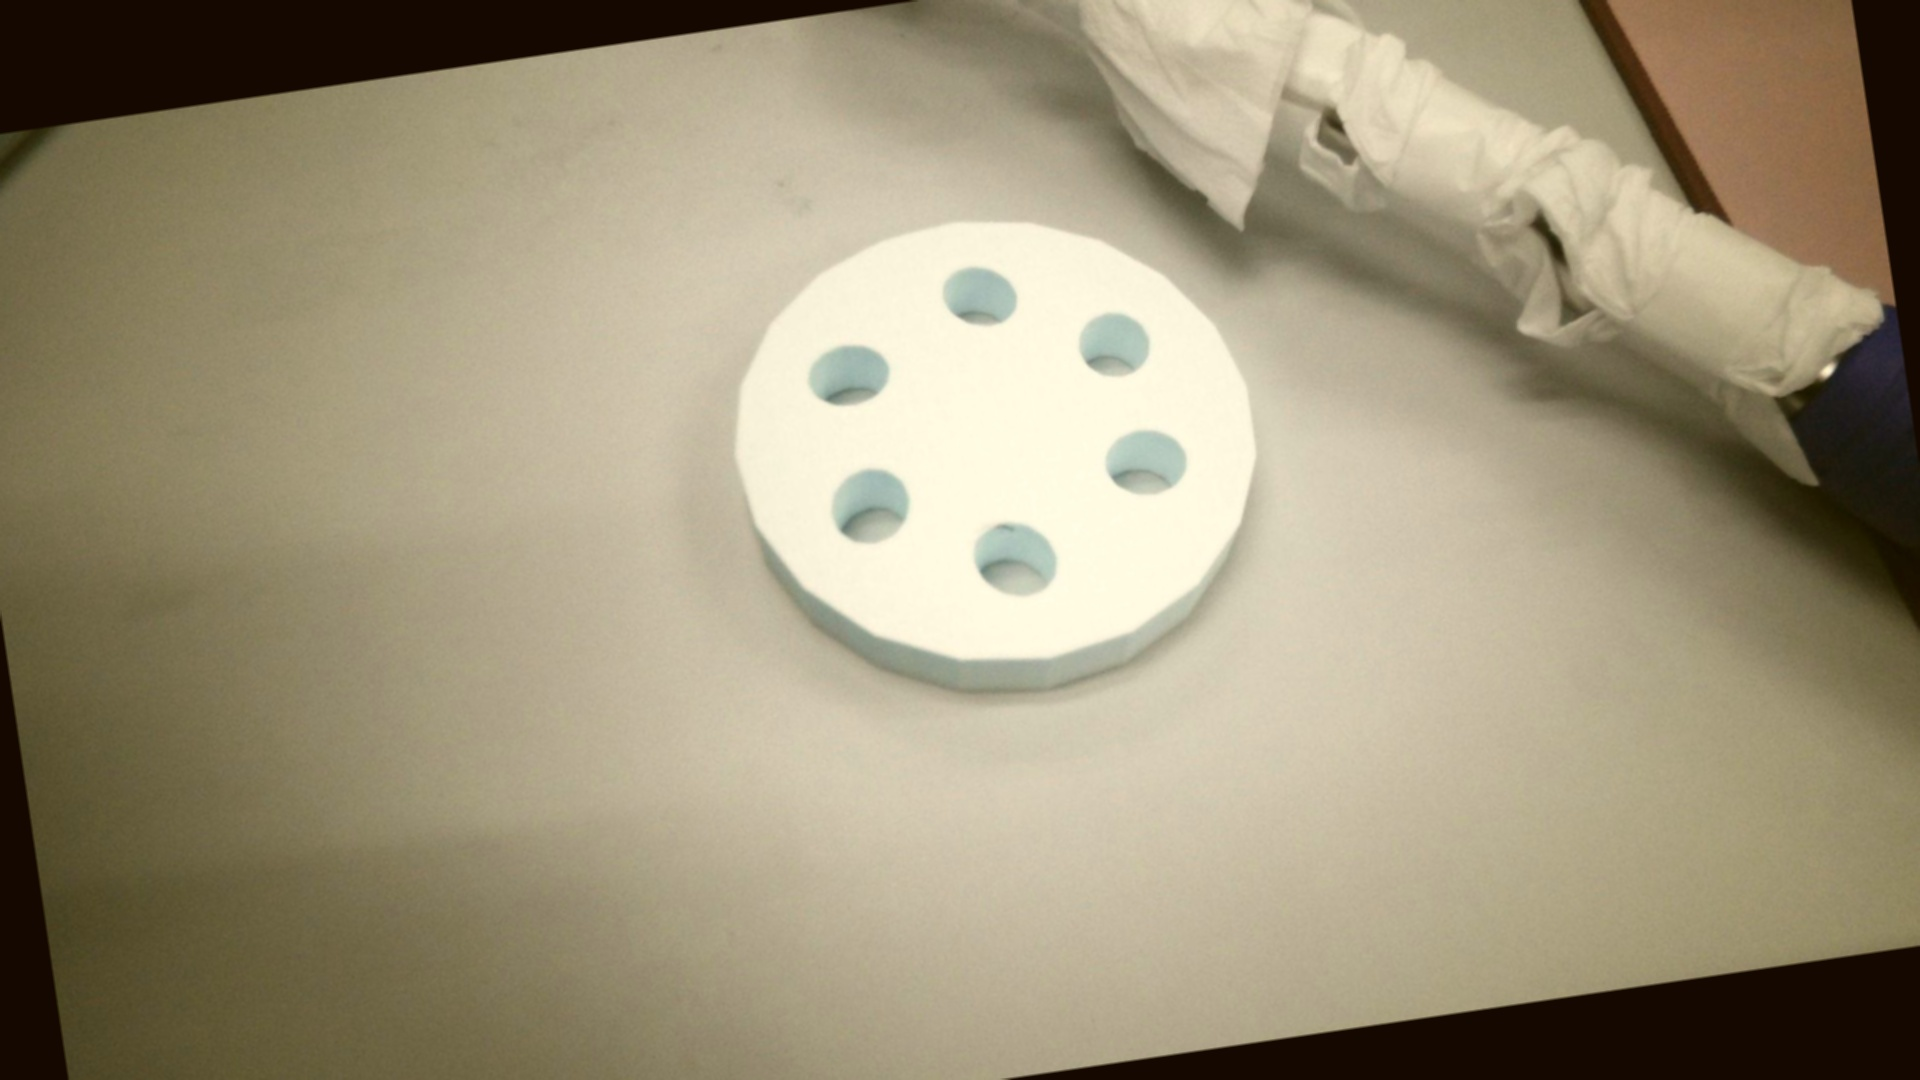hole: (1097, 419, 1203, 504), (935, 256, 1033, 336), (972, 512, 1058, 603), (828, 459, 913, 547), (802, 334, 895, 411), (1077, 305, 1158, 378)
obj: (682, 169, 1300, 746)
